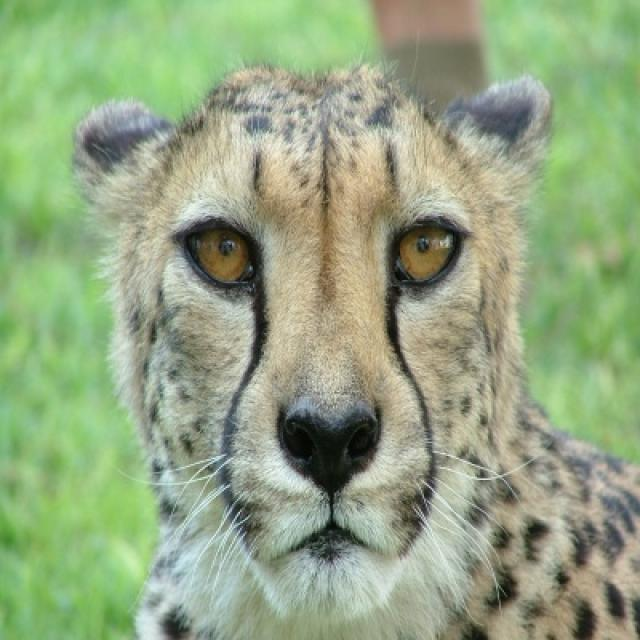Cheetah: (77, 67, 638, 638)
